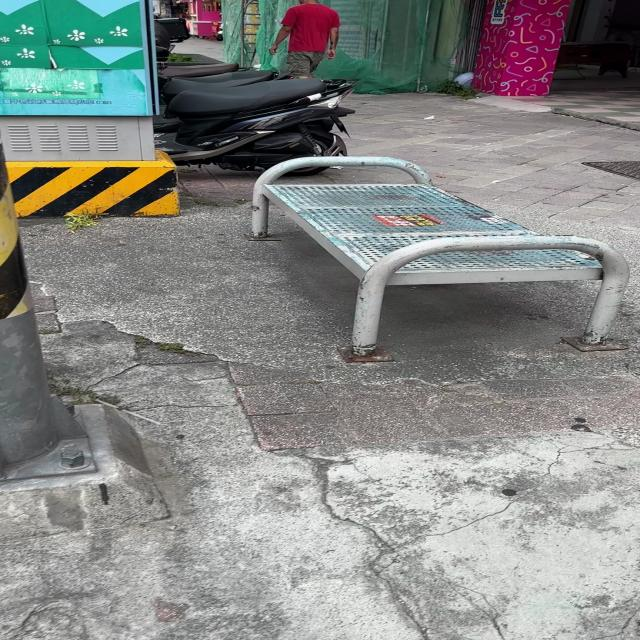chair: (251, 156, 626, 360)
